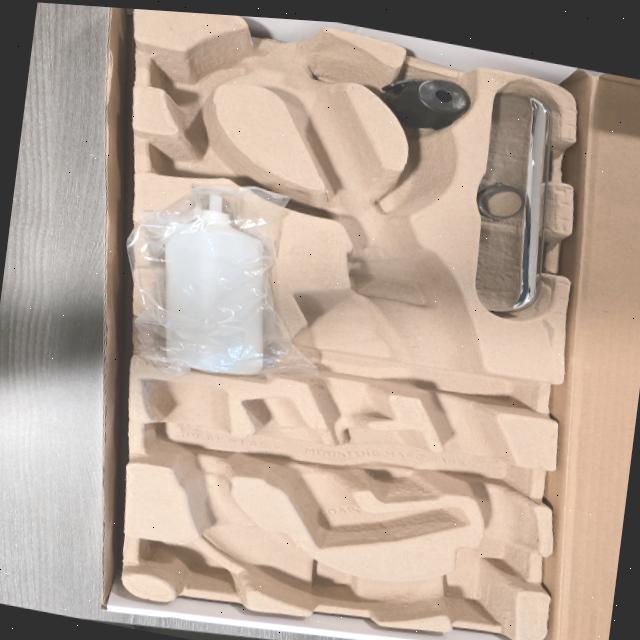1m: (145, 17, 537, 620)
2m: (243, 397, 465, 546)
3: (165, 190, 270, 375)
4: (476, 93, 549, 312)
5: (382, 77, 473, 131)
6m: (153, 39, 250, 102)
7m: (157, 112, 281, 185)
